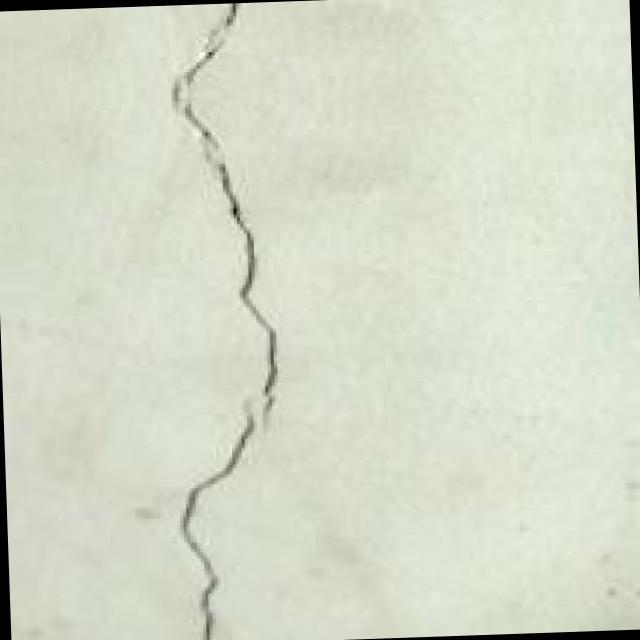crack: (94, 1, 308, 640)
